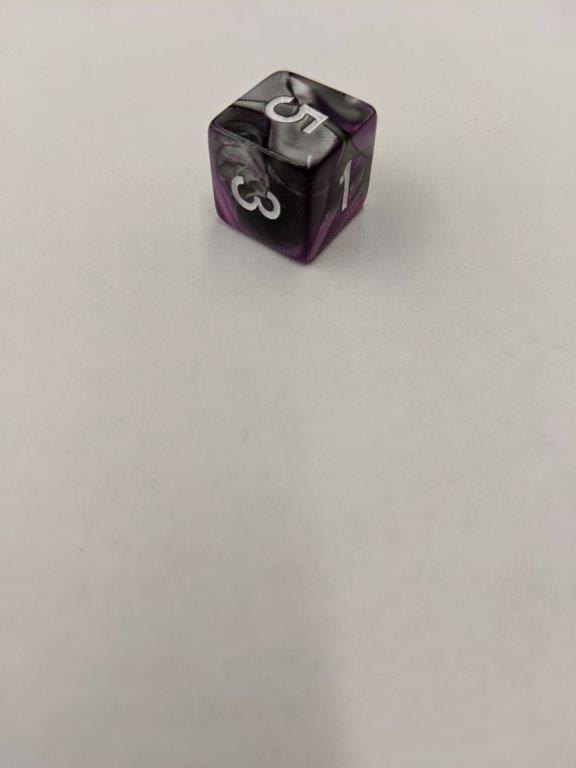d6-5: (210, 68, 377, 264)
